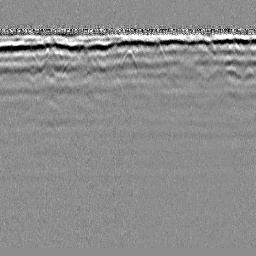cavity: (120, 47, 139, 70)
